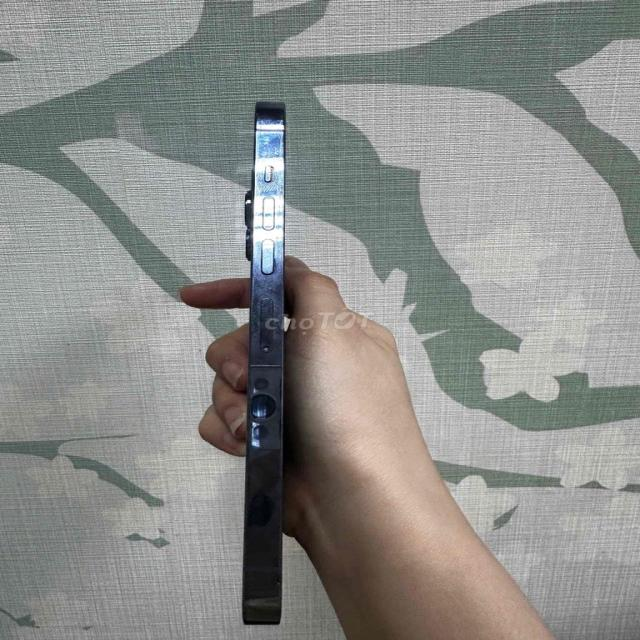scratch: (245, 172, 289, 368)
